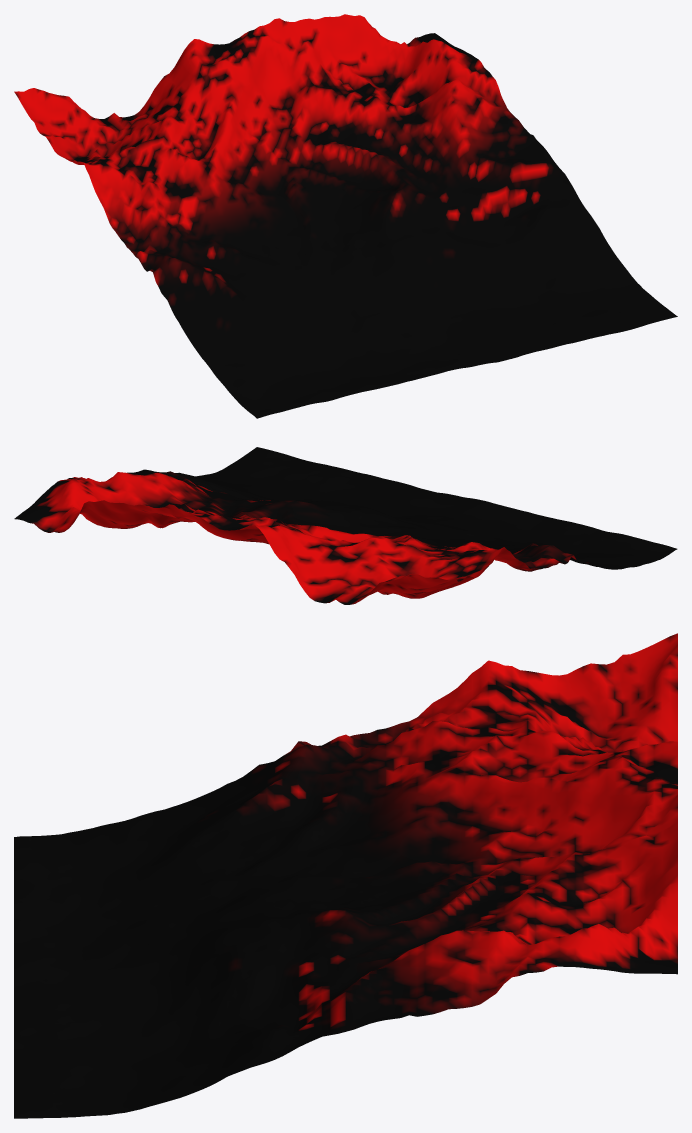
Rendered from SM_AsirMountains_Terrain_3_0.fbx.
3 renders of one model, top to bottom at view 1: azimuth 30°, elevation 25°; view 2: azimuth 150°, elevation 25°; view 3: azimuth 270°, elevation 25°, orthographic. The views are drawn at different scales.
Parts seen in each view (by area): view 1: SM_AsirMountains_Terrain_3_0; view 2: SM_AsirMountains_Terrain_3_0; view 3: SM_AsirMountains_Terrain_3_0.
Part boxes in pixels (<box>): SM_AsirMountains_Terrain_3_0: <box>14,14,677,418</box>; SM_AsirMountains_Terrain_3_0: <box>14,447,677,604</box>; SM_AsirMountains_Terrain_3_0: <box>14,633,677,1118</box>.
Bounding box in the file's own units: 50400 × 18365 × 50400.
